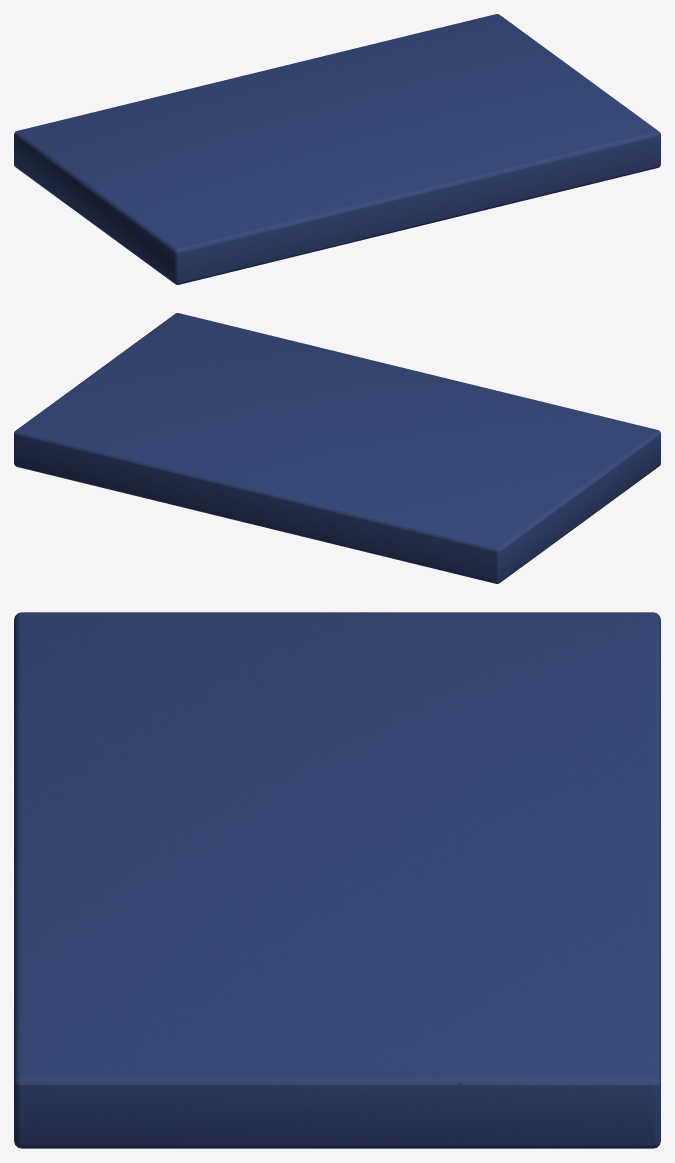
The model's file is SportMattress01_1.FBX.
3 views of the same model, one above another, from view 1: azimuth 30°, elevation 25°; view 2: azimuth 150°, elevation 25°; view 3: azimuth 270°, elevation 25° (orthographic). The views are drawn at different scales.
Visible parts, largest first — view 1: SportMattress01_1; view 2: SportMattress01_1; view 3: SportMattress01_1.
Boxes of the visible parts, x1,y1,x2,y2 form: SportMattress01_1: (14,14,660,284); SportMattress01_1: (14,313,660,583); SportMattress01_1: (14,612,660,1148).
Size of the model in its own units: 2.53 by 0.1817 by 1.47.
